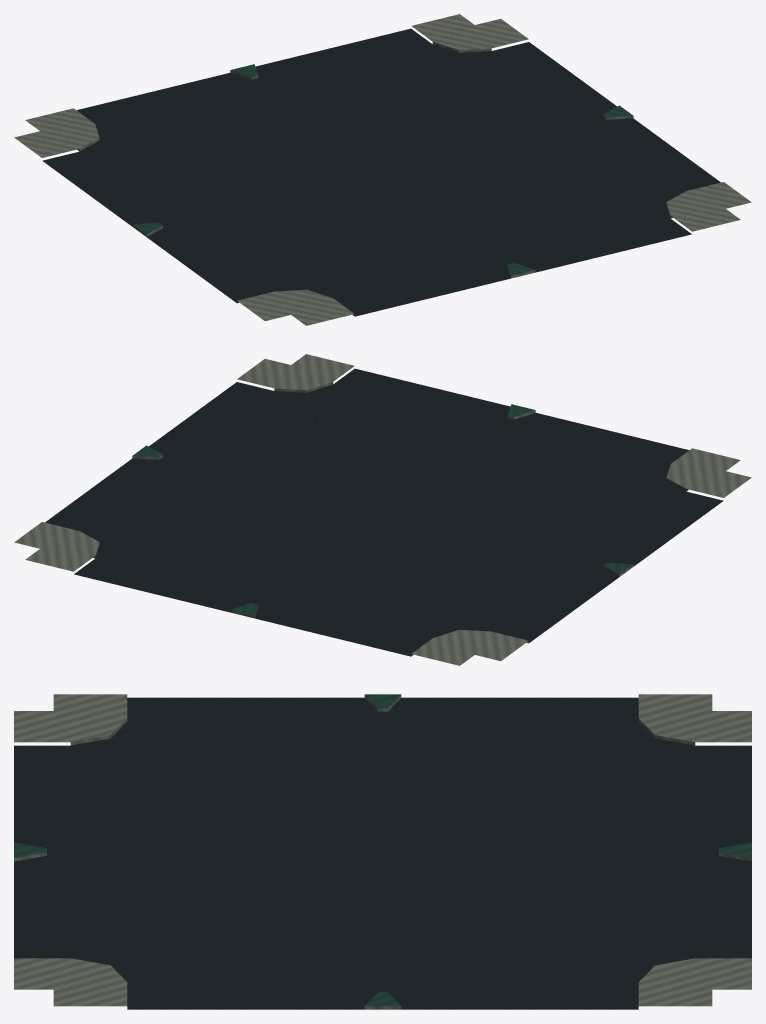
Rendered from junc_cross_6x6_ShadowProxy.glb.
The picture shows the model from 3 angles, top to bottom: view 1: azimuth 30°, elevation 25°; view 2: azimuth 150°, elevation 25°; view 3: azimuth 270°, elevation 25°; orthographic projection. The views are drawn at different scales.
Visible parts, largest first — view 1: junc_cross_6x6__surface.003, junc_cross_6x6__rounded_corner_curb.003, junc_cross_6x6__median_ends.003; view 2: junc_cross_6x6__surface.003, junc_cross_6x6__rounded_corner_curb.003, junc_cross_6x6__median_ends.003; view 3: junc_cross_6x6__surface.003, junc_cross_6x6__rounded_corner_curb.003, junc_cross_6x6__median_ends.003.
Part boxes in pixels (<box>): junc_cross_6x6__surface.003: <box>42,28,720,316</box>; junc_cross_6x6__rounded_corner_curb.003: <box>14,14,751,325</box>; junc_cross_6x6__median_ends.003: <box>132,64,633,278</box>; junc_cross_6x6__surface.003: <box>45,368,723,656</box>; junc_cross_6x6__rounded_corner_curb.003: <box>14,354,751,665</box>; junc_cross_6x6__median_ends.003: <box>132,404,633,618</box>; junc_cross_6x6__surface.003: <box>14,697,751,1009</box>; junc_cross_6x6__rounded_corner_curb.003: <box>14,694,751,1006</box>; junc_cross_6x6__median_ends.003: <box>14,694,751,1009</box>.
Size of the model in its own units: 28 by 0.145 by 28.
4 materials, 4 textured.
